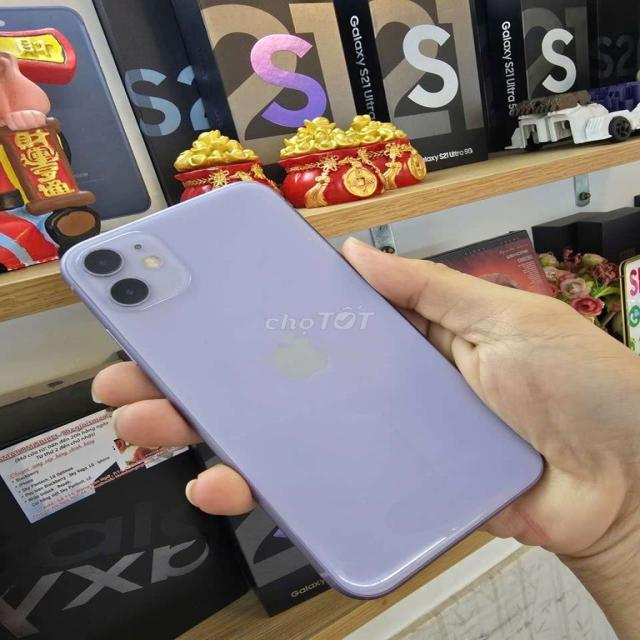gen_11: (61, 182, 542, 598)
